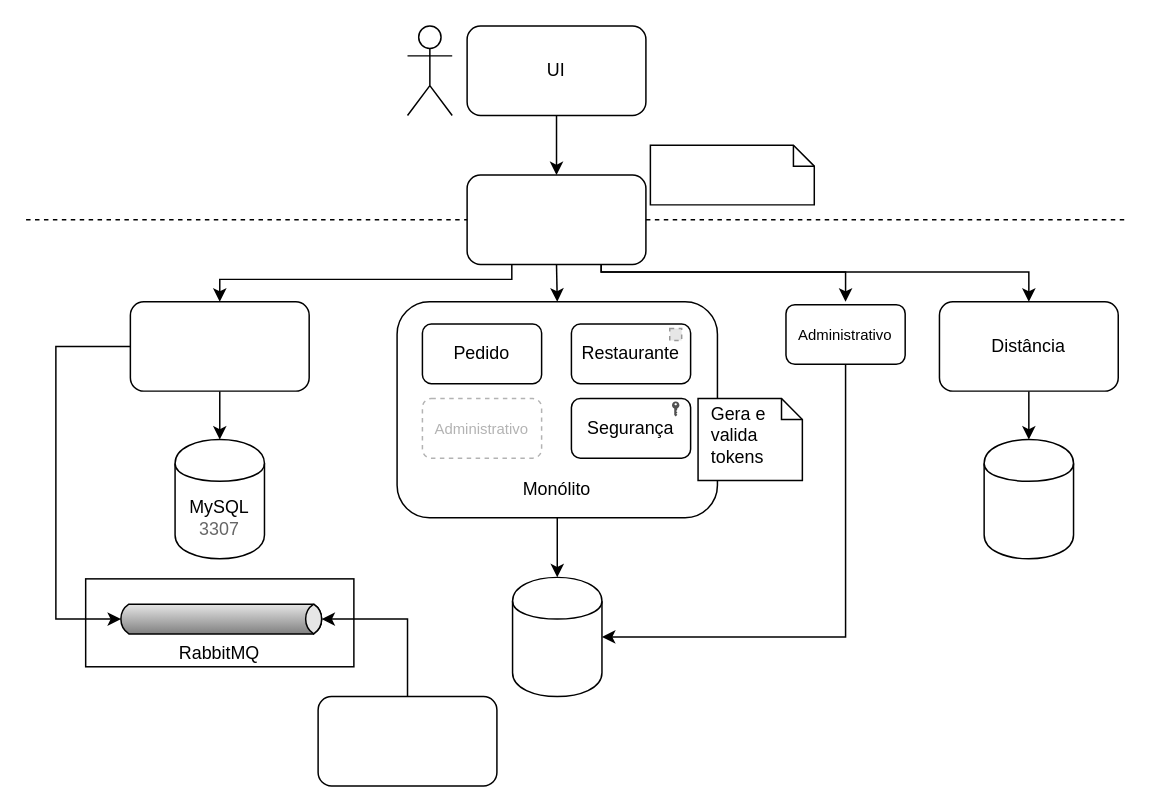
Image size: 1156x812. Some labels were removed from this diagram. Grey dashed boxes stand in for pictures. Each missing label, with the centre of its shape:
API Gateway: pixel 556 219
MongoDB 27018: pixel 1028 498
MySQL 3306: pixel 556 636
Nota Fiscal: pixel 407 740
Pagamento: pixel 219 345
Proxy API Composer: pixel 731 174
